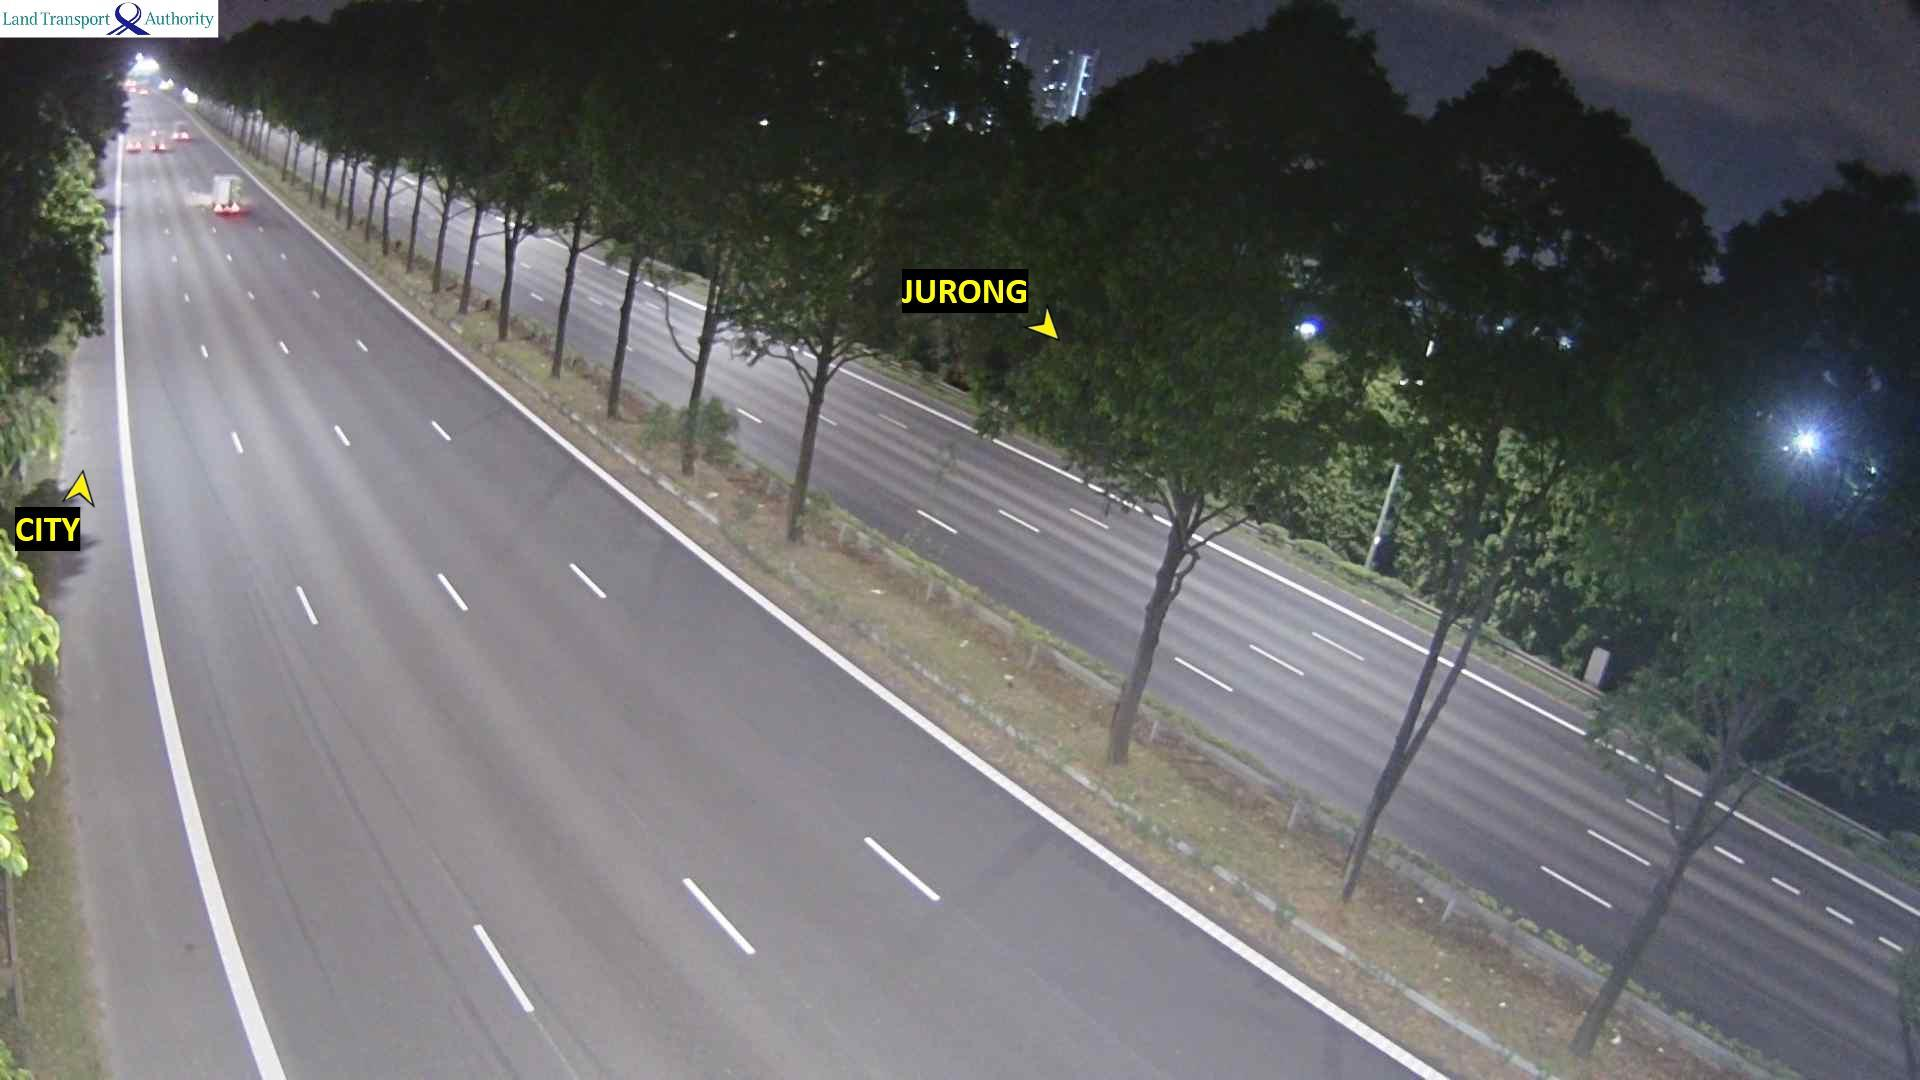cars: (128, 50, 160, 76), (148, 128, 170, 152), (123, 76, 150, 95), (170, 121, 190, 142), (179, 84, 198, 104), (124, 137, 140, 153), (120, 76, 136, 92), (158, 76, 174, 91), (135, 82, 150, 96)
trucks: (210, 171, 245, 216)
